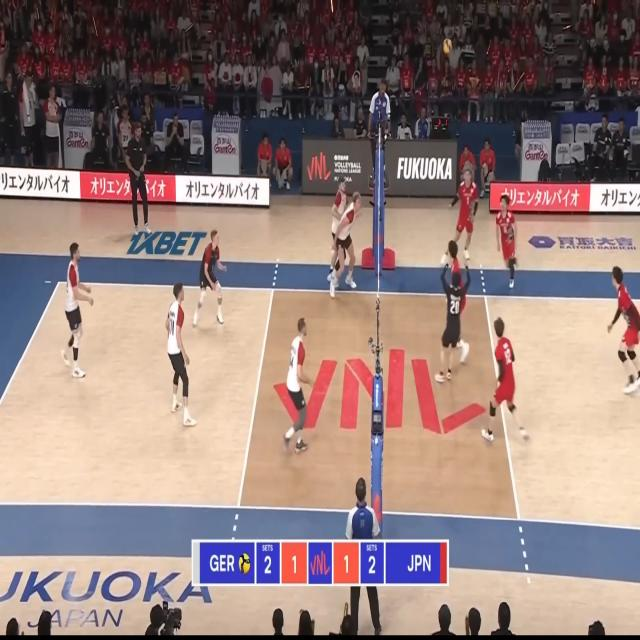ball: (443, 38, 452, 54)
